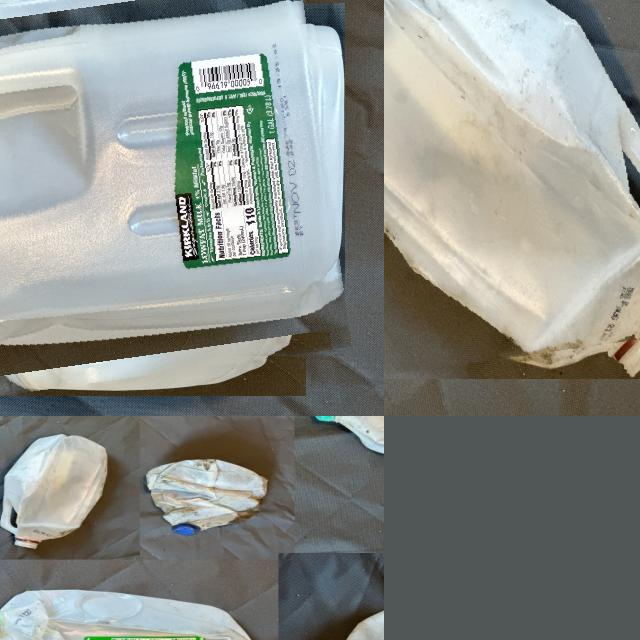milk-jug: (0, 0, 338, 387), (384, 0, 640, 369), (0, 585, 253, 640), (0, 433, 109, 547), (138, 458, 270, 538)
